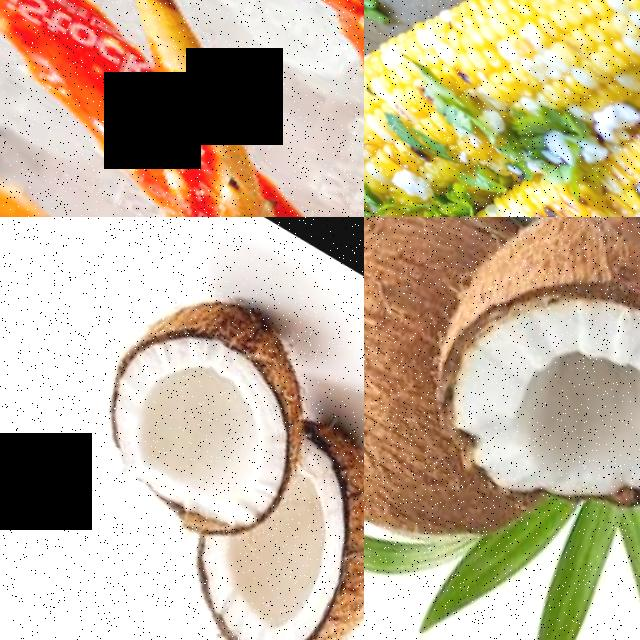coconut: (56, 236, 359, 561), (385, 217, 640, 593), (364, 217, 532, 541), (176, 381, 364, 640)
corn: (364, 0, 640, 172), (375, 110, 640, 217), (568, 0, 640, 217)
crab: (0, 0, 364, 217)
